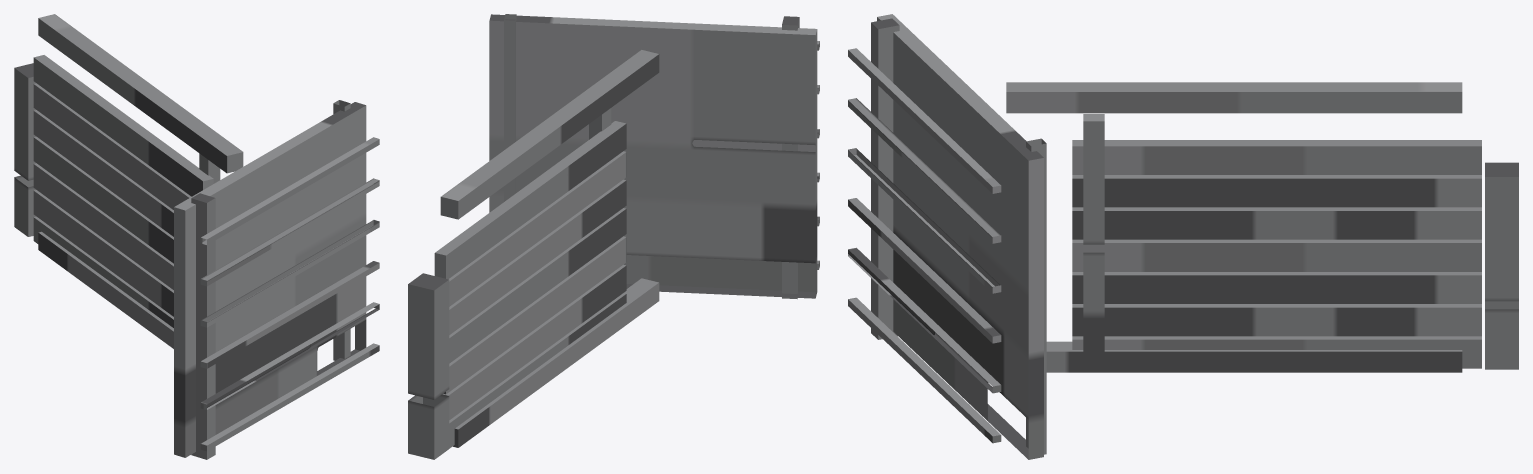
3 renders of one model, left to right at view 1: azimuth 30°, elevation 25°; view 2: azimuth 150°, elevation 25°; view 3: azimuth 270°, elevation 25°, orthographic. The views are drawn at different scales.
Size of the model in its own units: 1.07 by 1.05 by 2.06.
